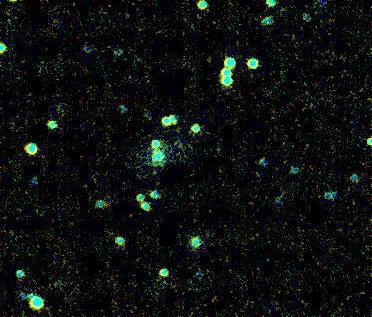star: (352, 86, 372, 116)
